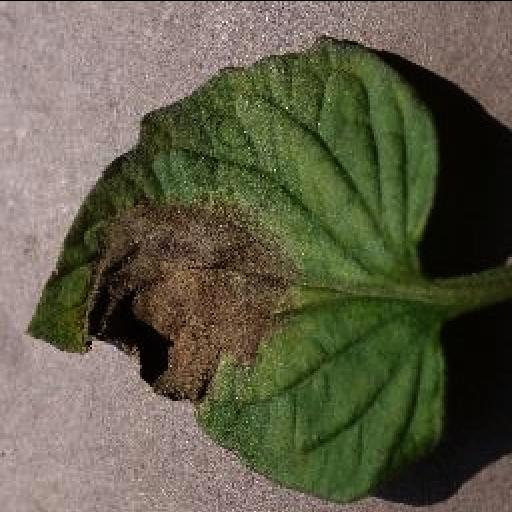Late Blight: (24, 32, 446, 504)
